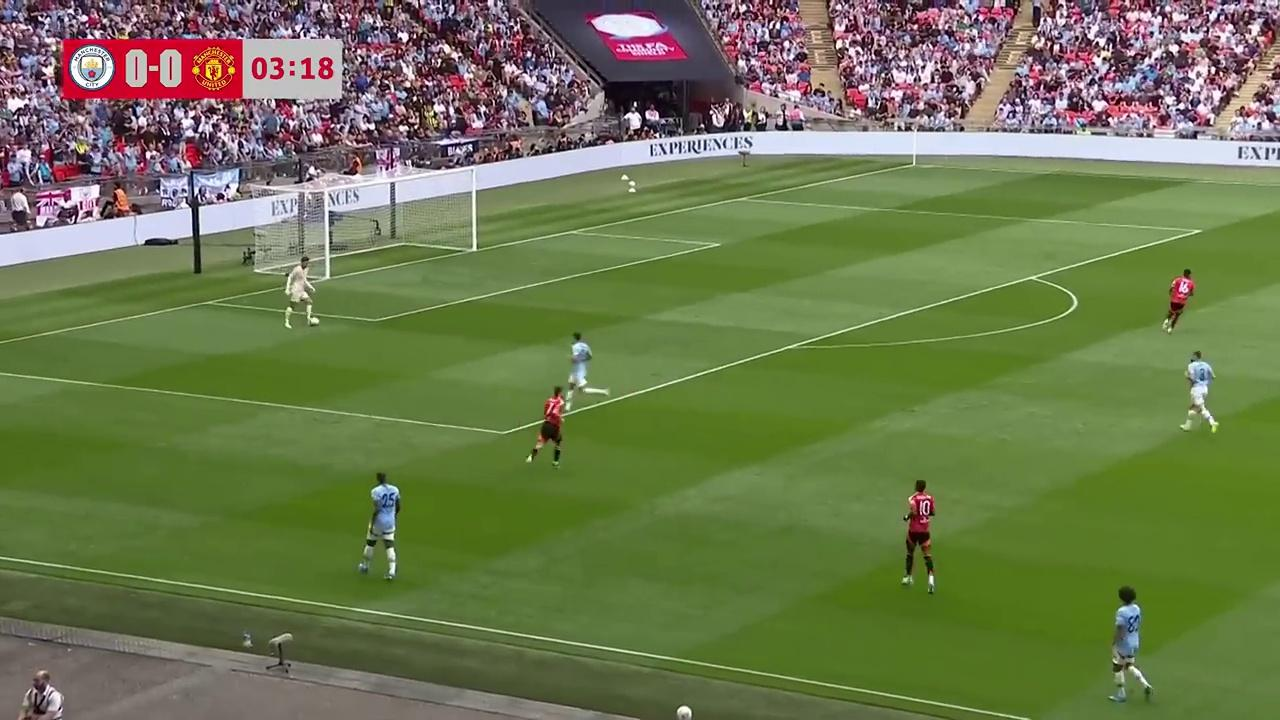player: (1110, 587, 1154, 703), (358, 470, 401, 578), (901, 479, 937, 593), (524, 386, 566, 466), (1179, 350, 1218, 434), (282, 264, 318, 328), (1163, 268, 1195, 333), (567, 331, 592, 399)
